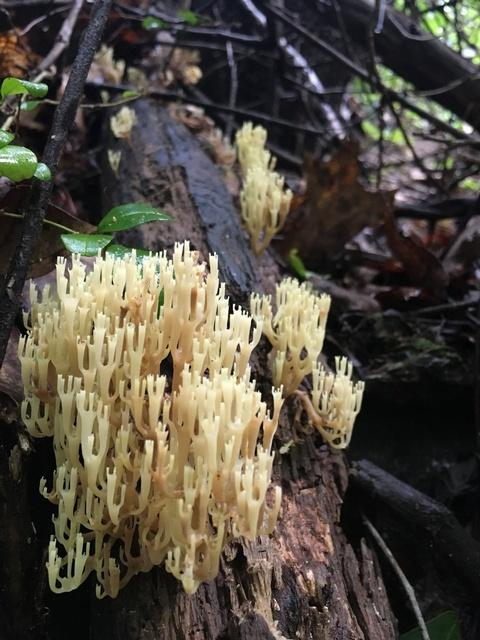edible_mushroom: (15, 239, 364, 599), (233, 119, 294, 256)
